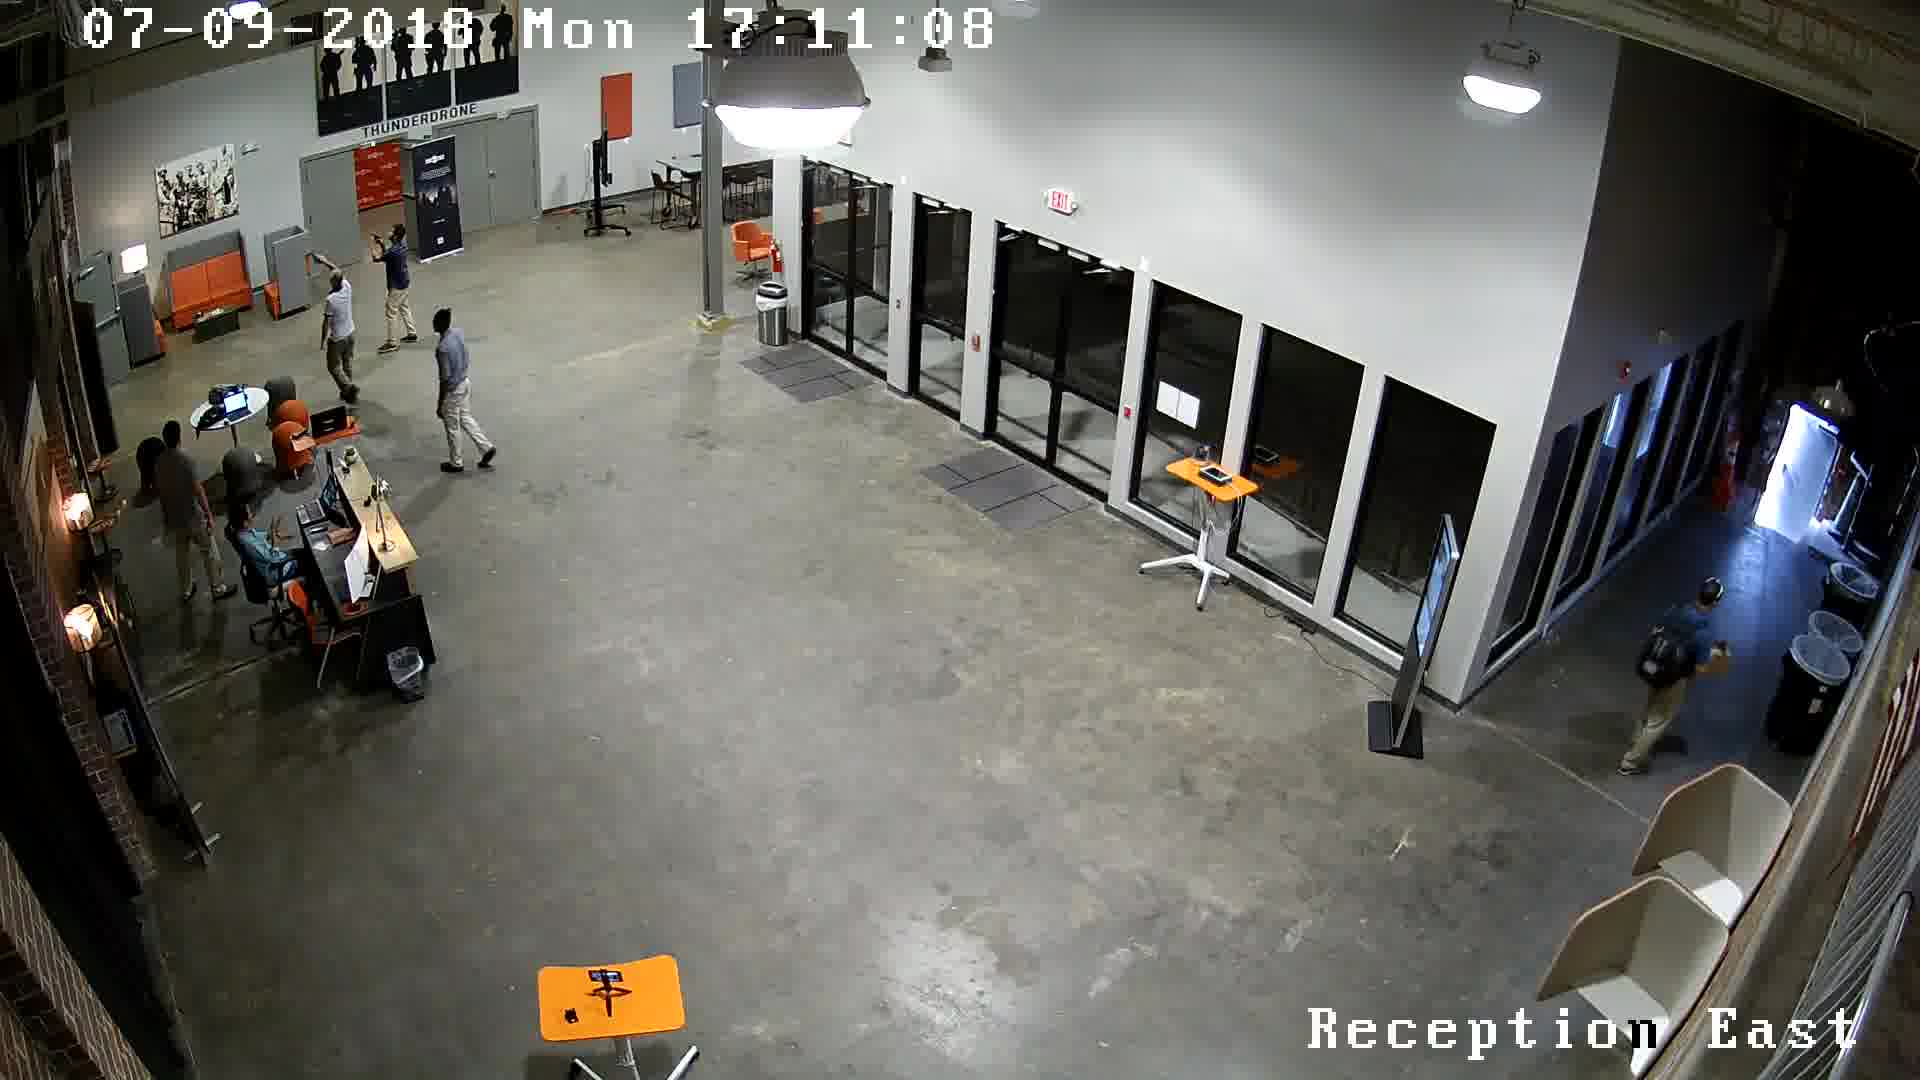pistol: (290, 241, 334, 276), (360, 227, 385, 258)
